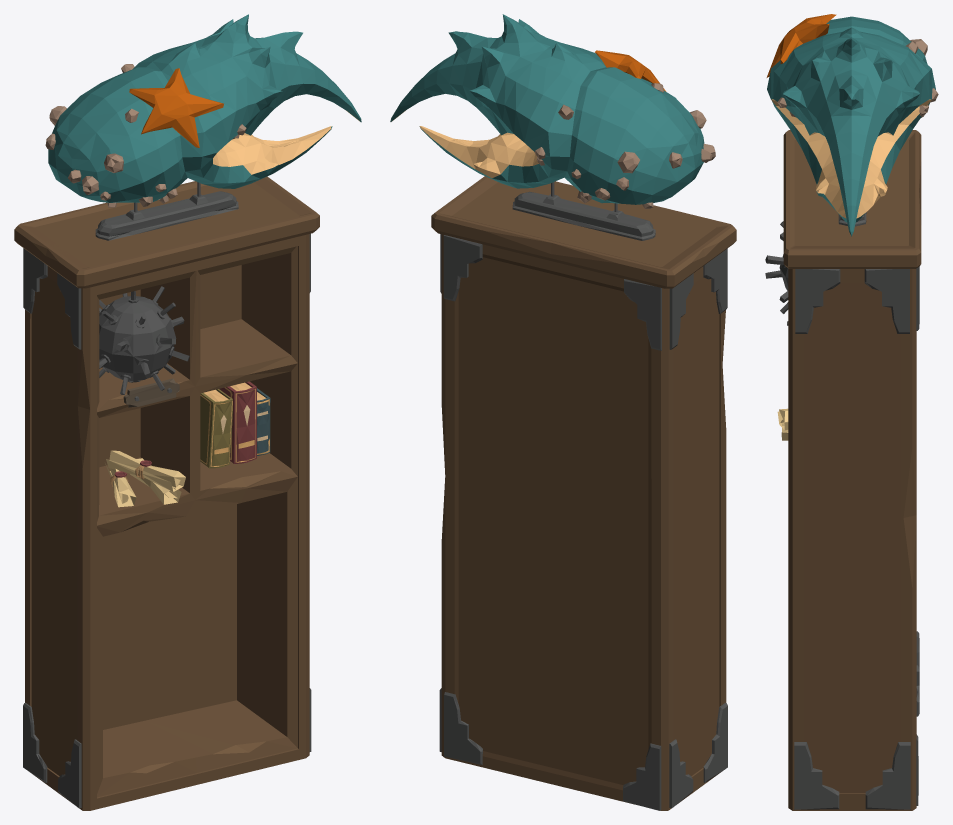
Rendered from Shelving_001.fbx.
3 views of the same model, side by side, from view 1: azimuth 30°, elevation 25°; view 2: azimuth 150°, elevation 25°; view 3: azimuth 270°, elevation 25° (orthographic). The views are drawn at different scales.
Visible parts, largest first — view 1: Shelving_001; view 2: Shelving_001; view 3: Shelving_001.
Part boxes in pixels (left/top/right/bottom): Shelving_001: left=14, top=14, right=361, bottom=810; Shelving_001: left=390, top=14, right=736, bottom=810; Shelving_001: left=765, top=14, right=938, bottom=810.
Bounding box in the file's own units: 1.72 × 3.8 × 0.7893.
